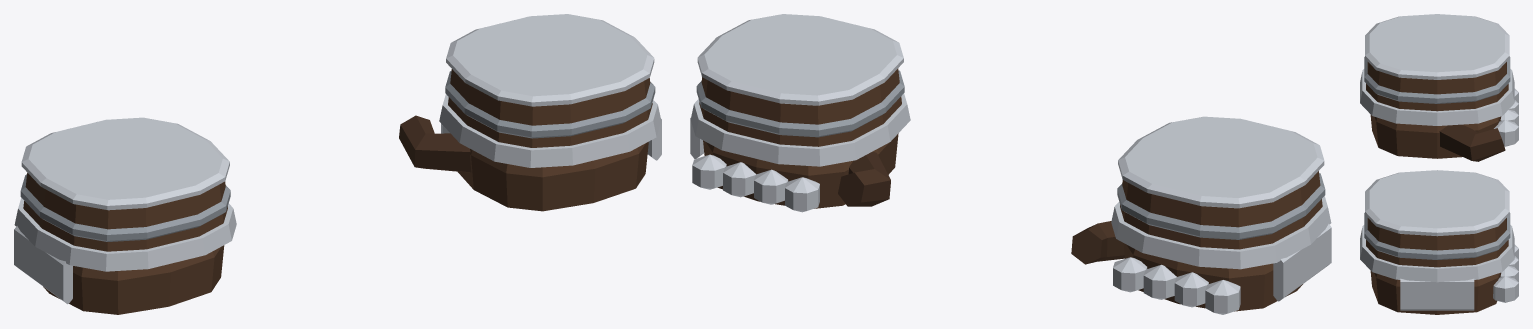
Rendered from look3_gloves_greatsword_normal.fbx.
3 views of the same model, side by side, from view 1: azimuth 30°, elevation 25°; view 2: azimuth 150°, elevation 25°; view 3: azimuth 270°, elevation 25° (orthographic). The views are drawn at different scales.
Parts seen in each view (by area): view 1: Bracer_L, Bracer_R, Glove_R, Glove_L; view 2: Bracer_R, Bracer_L, Glove_L, Glove_R; view 3: Bracer_L, Bracer_R, Glove_L, Glove_R.
Boxes of the visible parts, bbox=[...] form: Bracer_L: bbox=[14, 117, 236, 271]; Bracer_R: bbox=[439, 14, 661, 167]; Glove_R: bbox=[399, 115, 661, 211]; Glove_L: bbox=[14, 226, 224, 314]; Bracer_R: bbox=[690, 14, 910, 166]; Bracer_L: bbox=[1111, 116, 1331, 269]; Glove_L: bbox=[1071, 221, 1331, 314]; Glove_R: bbox=[690, 118, 898, 212]; Bracer_L: bbox=[1360, 14, 1514, 125]; Bracer_R: bbox=[1360, 170, 1514, 282]; Glove_L: bbox=[1370, 88, 1518, 161]; Glove_R: bbox=[1370, 244, 1518, 314].
Bounding box in the file's own units: 428 × 78.5 × 129.
